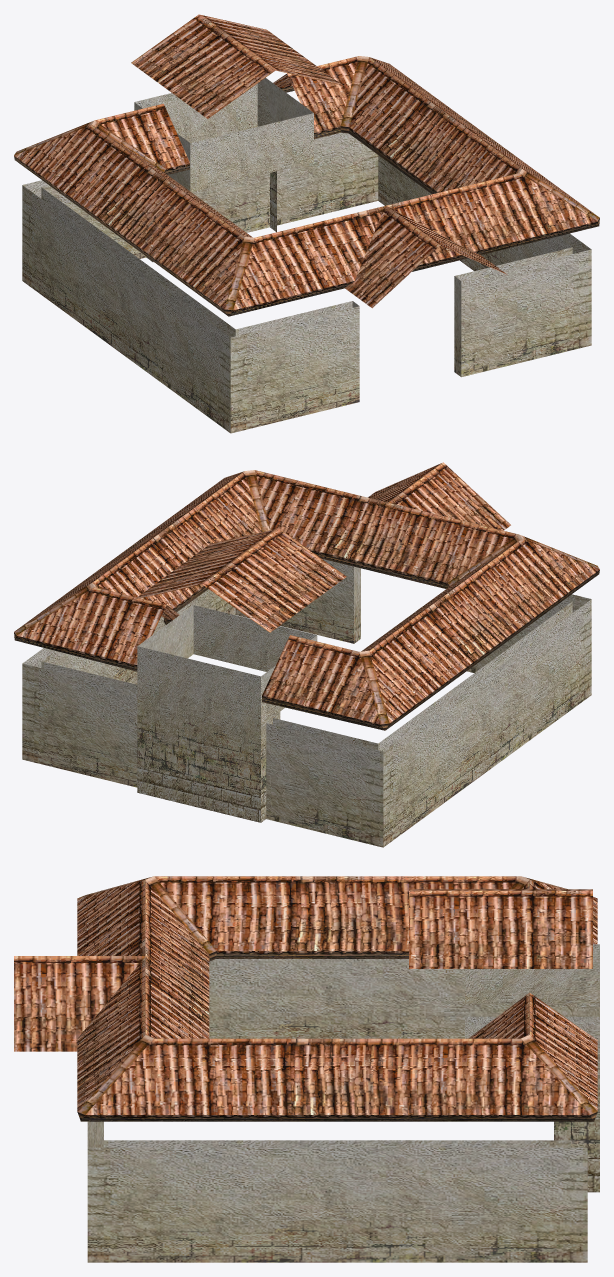
File: hele_gym_a.dae
The picture shows the model from 3 angles, top to bottom: view 1: azimuth 30°, elevation 25°; view 2: azimuth 150°, elevation 25°; view 3: azimuth 270°, elevation 25°; orthographic projection. The views are drawn at different scales.
Visible parts, largest first — view 1: gym; view 2: gym; view 3: gym.
Part boxes in pixels (x1=…): gym: x1=14, y1=14, x2=599, y2=433; gym: x1=14, y1=462, x2=599, y2=847; gym: x1=14, y1=876, x2=599, y2=1262.
Size of the model in its own units: 20.55 by 23.14 by 11.57.
